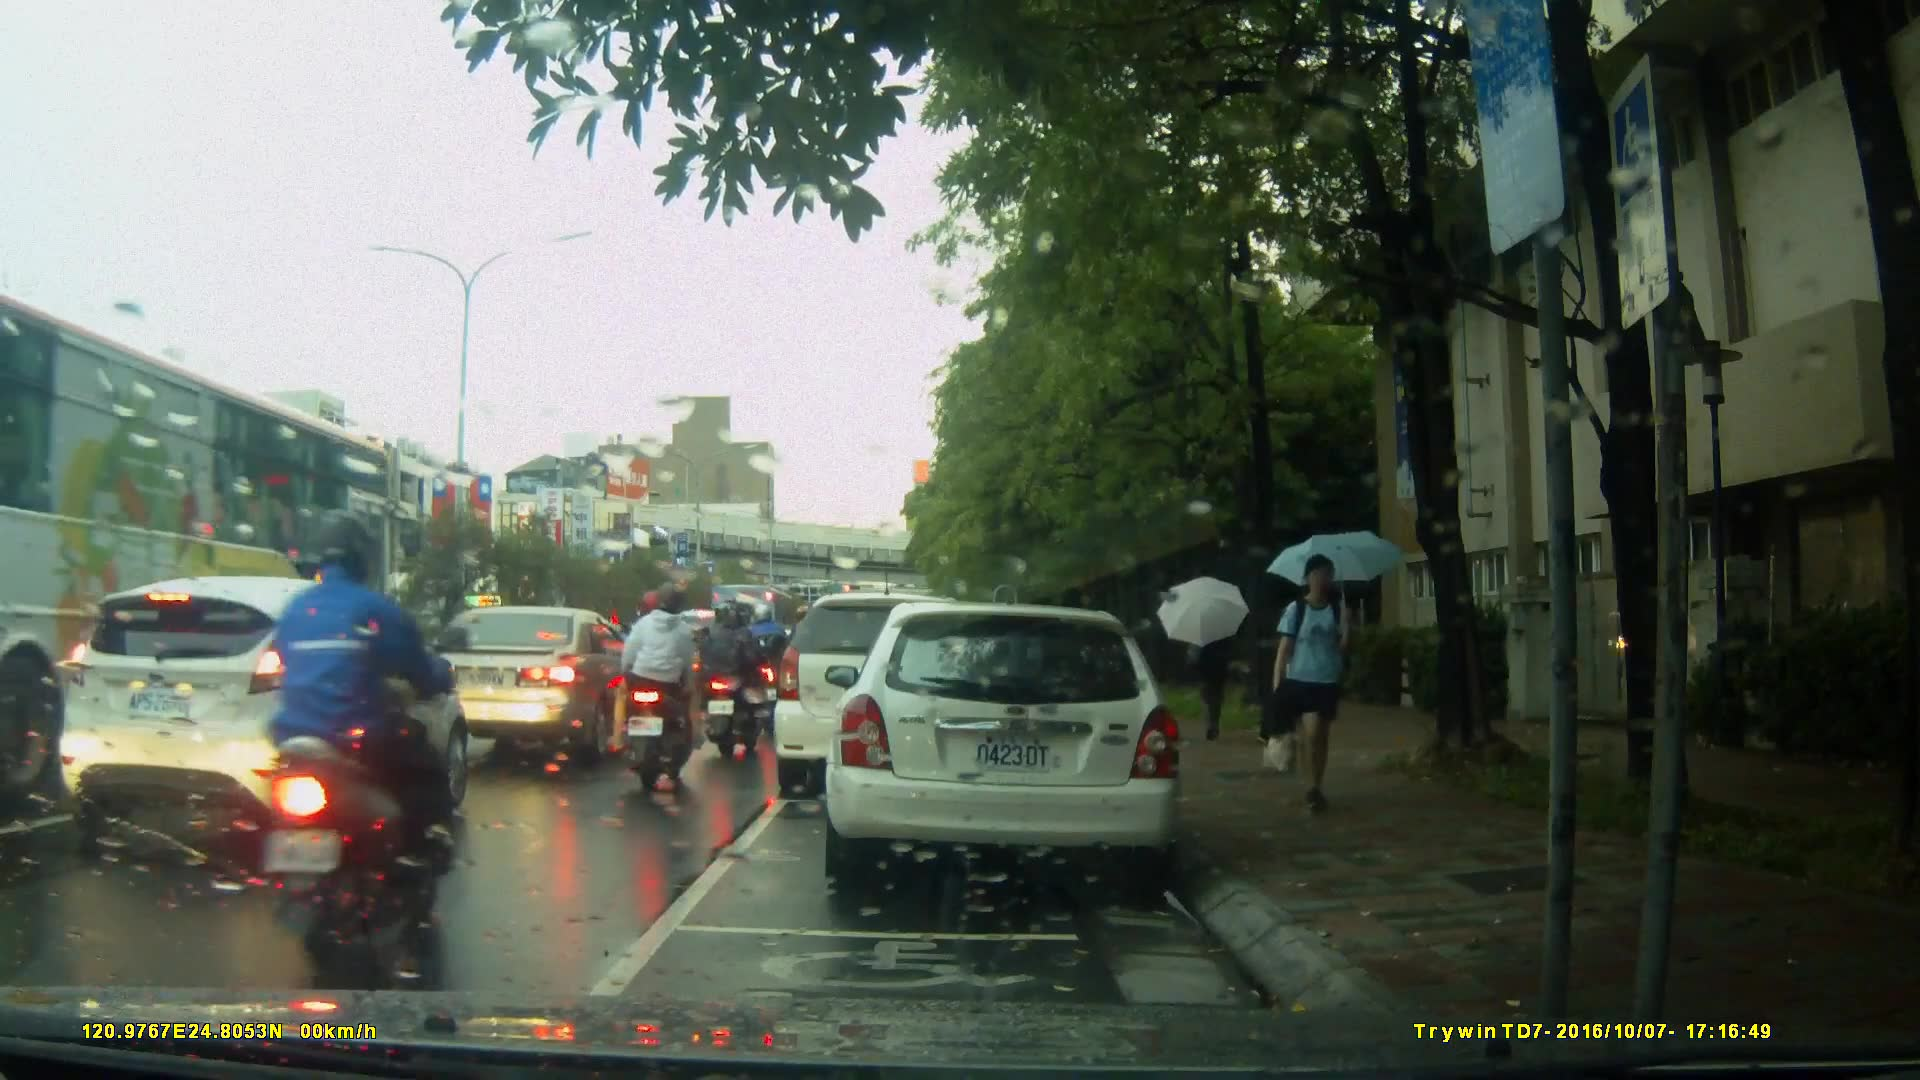pedestrian: (1251, 552, 1358, 820), (1187, 602, 1237, 737)
rider: (225, 512, 473, 954), (628, 589, 706, 797), (700, 597, 751, 763), (738, 599, 796, 742)
vehicle: (1, 291, 404, 779), (58, 573, 473, 871), (835, 594, 1194, 898), (776, 590, 1026, 784), (391, 603, 647, 763), (603, 619, 728, 715), (705, 573, 793, 672)
